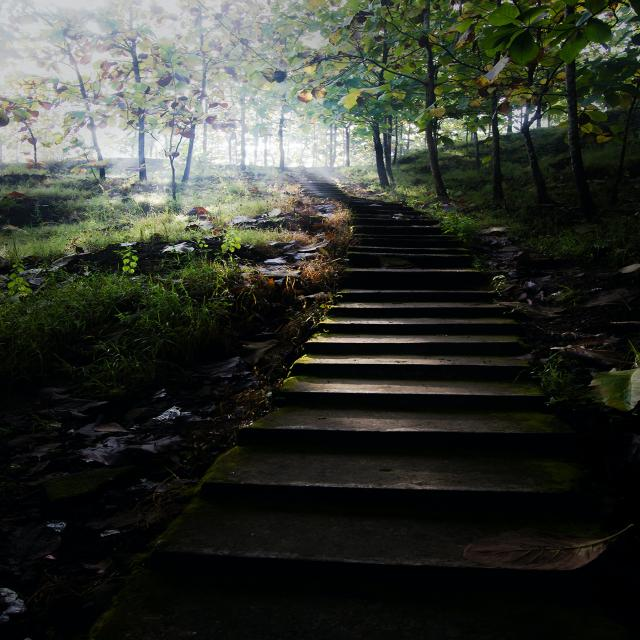Staircase: (196, 212, 562, 609)
tree: (342, 12, 469, 241), (505, 0, 629, 234), (405, 14, 519, 251), (82, 31, 181, 241)
